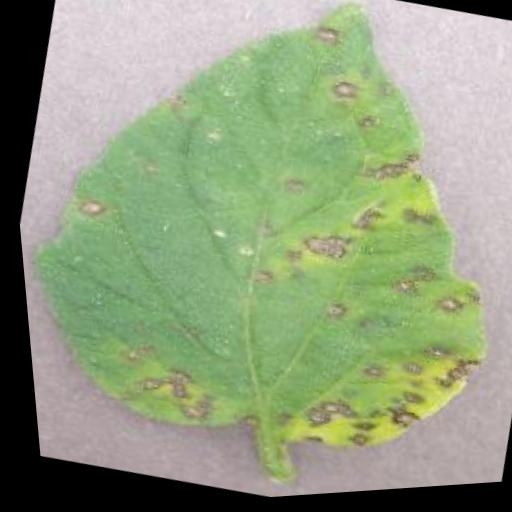Septoria: (0, 0, 512, 503)
